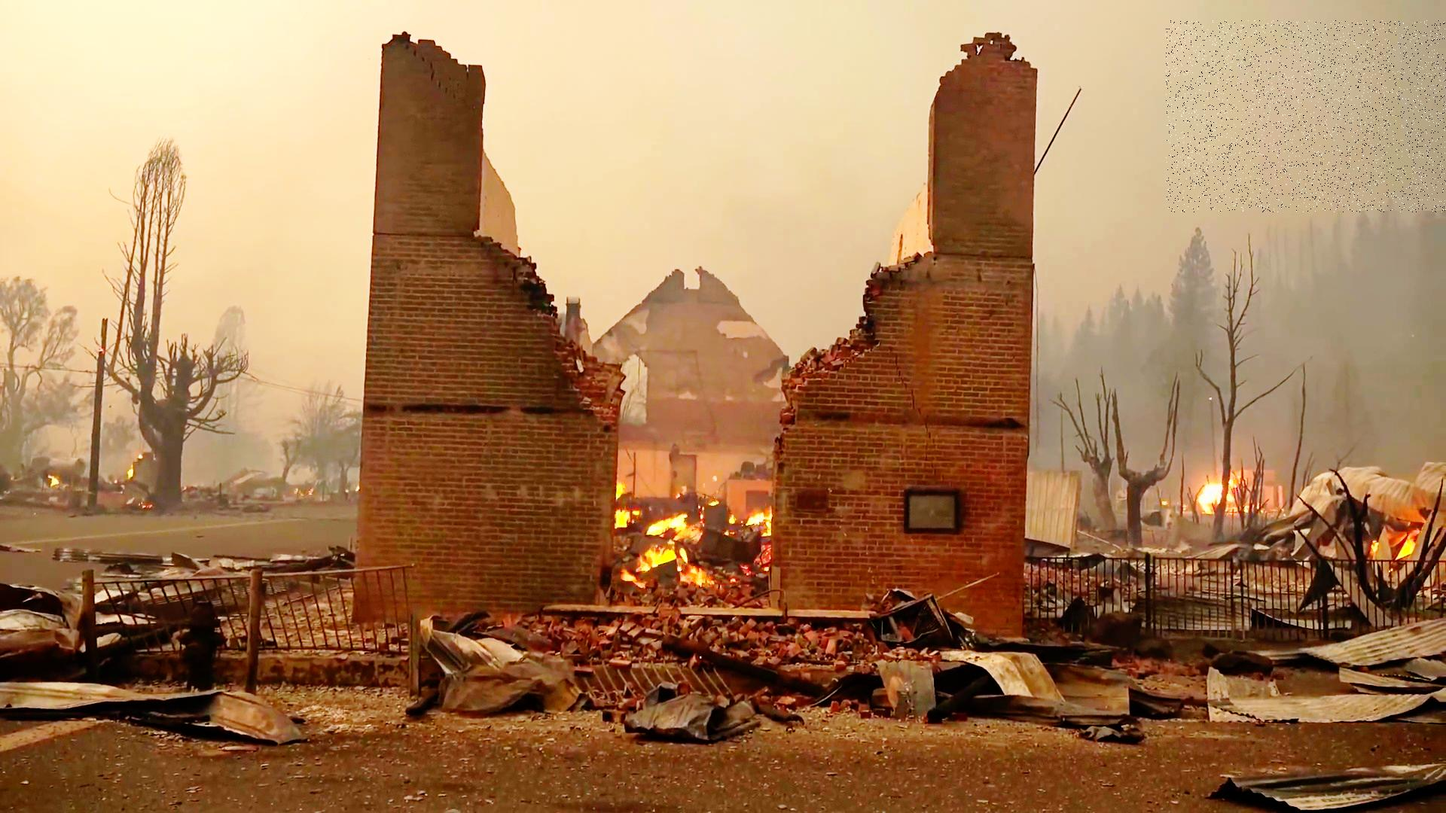smoke: (1166, 21, 1446, 213)
